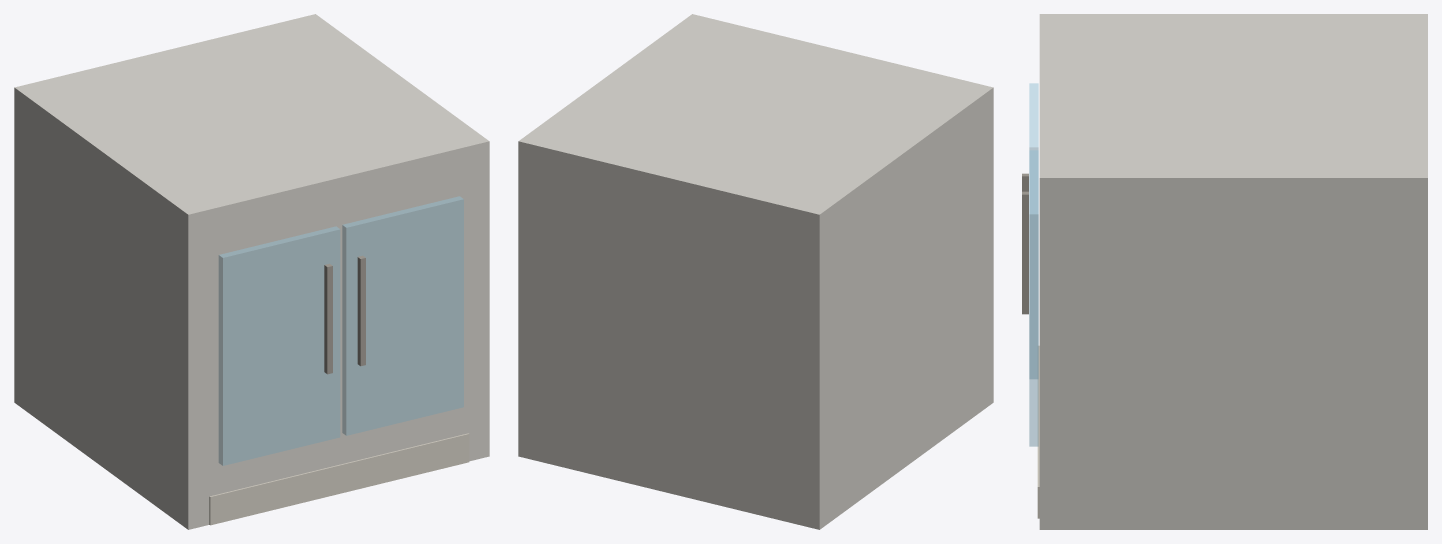
Rendered from flatBaseGlassDouble.glb.
3 renders of one model, left to right at view 1: azimuth 30°, elevation 25°; view 2: azimuth 150°, elevation 25°; view 3: azimuth 270°, elevation 25°, orthographic. The views are drawn at different scales.
Visible parts, largest first — view 1: body, glassDoorLeft, glassDoorRight, toeKick, handle (×2); view 2: body; view 3: body, glassDoorRight, glassDoorLeft, handle, toeKick.
Part boxes in pixels (x1,y1,x2,y2): body: (14, 14, 489, 529); glassDoorLeft: (218, 226, 340, 465); glassDoorRight: (342, 196, 463, 435); toeKick: (209, 433, 469, 525); handle (×2): (324, 255, 365, 374); body: (518, 14, 993, 529); body: (1039, 14, 1427, 529); glassDoorRight: (1029, 150, 1038, 446); glassDoorLeft: (1029, 83, 1038, 378); handle: (1022, 191, 1028, 314); toeKick: (1037, 345, 1039, 518).
Bounding box in the file's own units: 1 × 1 × 1.04.
